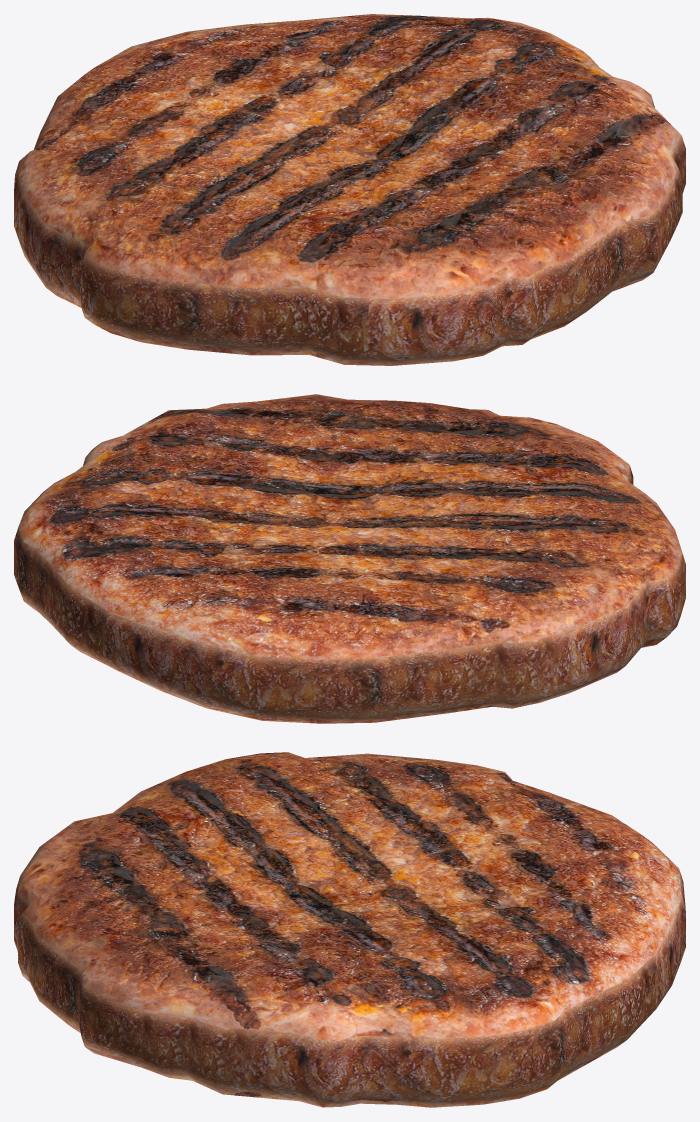
Rendered from meat.glb.
The picture shows the model from 3 angles, top to bottom: view 1: azimuth 30°, elevation 25°; view 2: azimuth 150°, elevation 25°; view 3: azimuth 270°, elevation 25°; orthographic projection. The views are drawn at different scales.
Visible parts, largest first — view 1: meatN2; view 2: meatN2; view 3: meatN2.
Part boxes in pixels (x1,y1,x2,y2): meatN2: (14, 14, 685, 365); meatN2: (14, 394, 685, 723); meatN2: (14, 752, 685, 1107).
Bounding box in the file's own units: 0.0956 × 0.0171 × 0.0932.
Materials: 1 (1 with a texture image).
